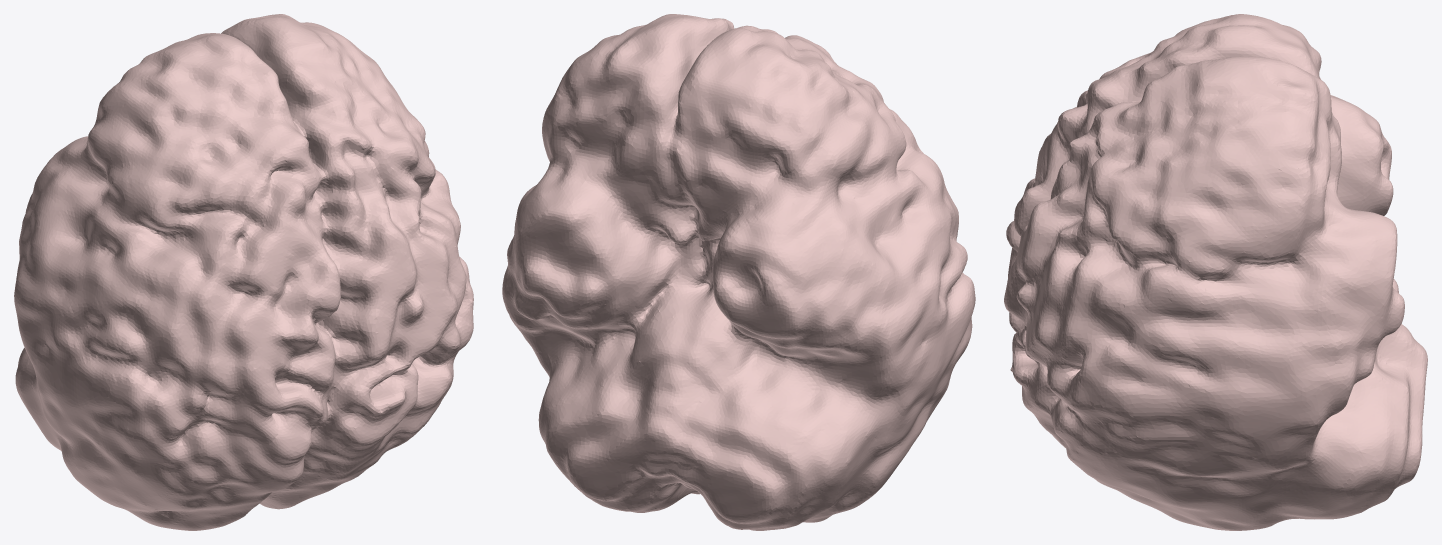
Rendered from brain.glb.
3 renders of one model, left to right at view 1: azimuth 30°, elevation 25°; view 2: azimuth 150°, elevation 25°; view 3: azimuth 270°, elevation 25°, orthographic. The views are drawn at different scales.
Visible parts, largest first — view 1: geometry_0; view 2: geometry_0; view 3: geometry_0.
Boxes of the visible parts, left/top/right/bottom form: geometry_0: left=14, top=14, right=473, bottom=530; geometry_0: left=502, top=14, right=975, bottom=530; geometry_0: left=1004, top=14, right=1427, bottom=530.
Size of the model in its own units: 0.1425 by 0.1648 by 0.1313.
